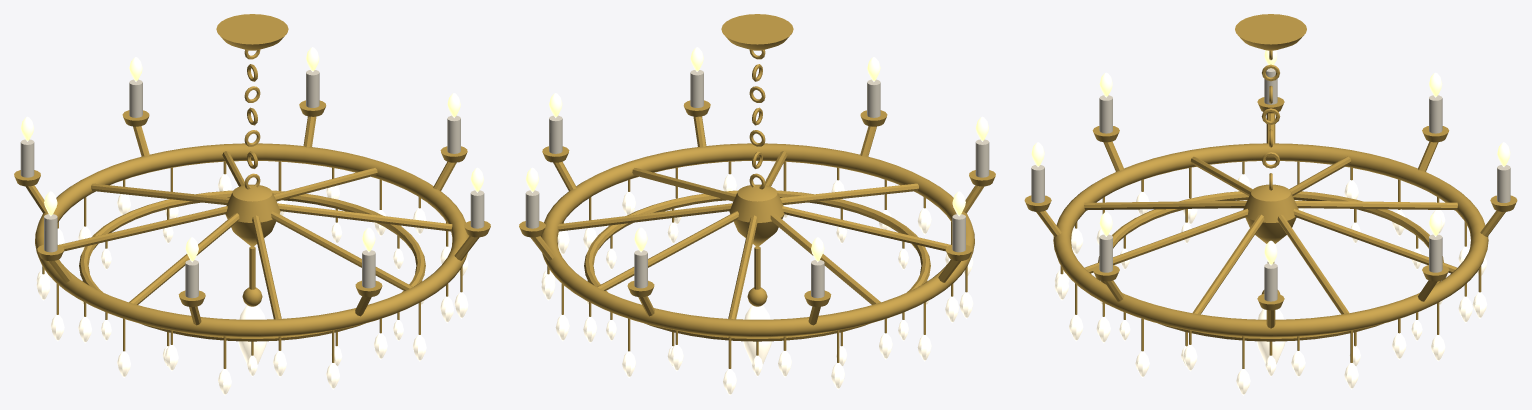
Rendered from chandelier.glb.
3 views of the same model, side by side, from view 1: azimuth 30°, elevation 25°; view 2: azimuth 150°, elevation 25°; view 3: azimuth 270°, elevation 25° (orthographic).
Visible parts, largest first — view 1: chandelier; view 2: chandelier; view 3: chandelier.
Boxes of the visible parts, bbox=[...] form: chandelier: bbox=[14, 14, 490, 395]; chandelier: bbox=[519, 14, 995, 395]; chandelier: bbox=[1024, 14, 1517, 395].
Size of the model in its own units: 1.23 by 0.945 by 1.23.
